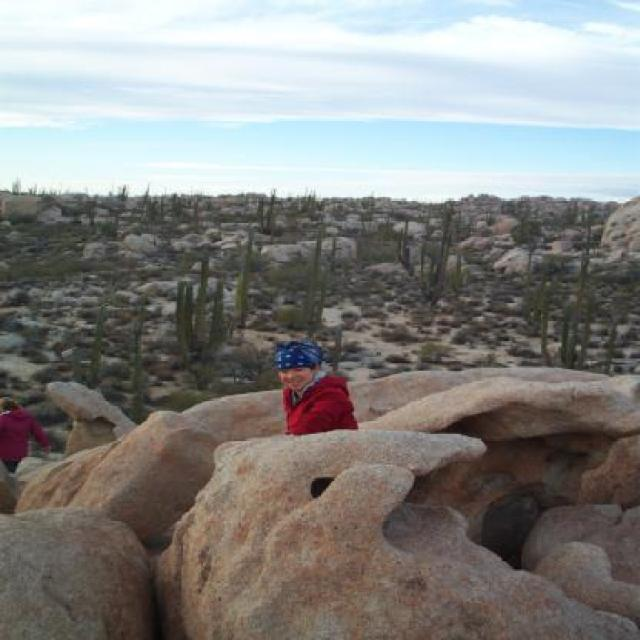Person: (263, 348, 360, 443), (0, 398, 46, 476)
